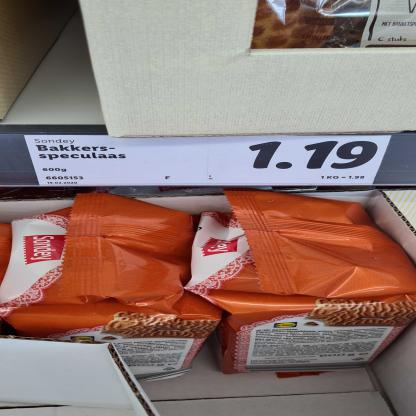prtg: (24, 136, 392, 186)
